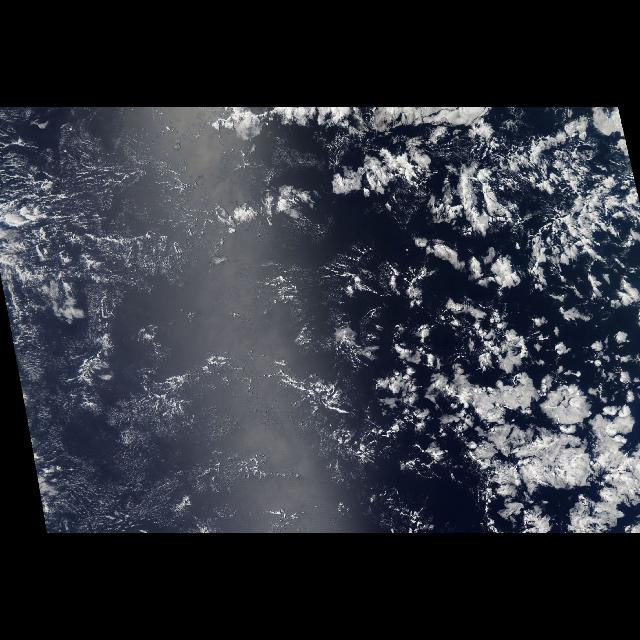Flower: (406, 264, 640, 534), (204, 109, 516, 237)
Gravel: (1, 107, 196, 350)
Sugar: (22, 378, 424, 534), (212, 247, 424, 366), (52, 142, 200, 282)
